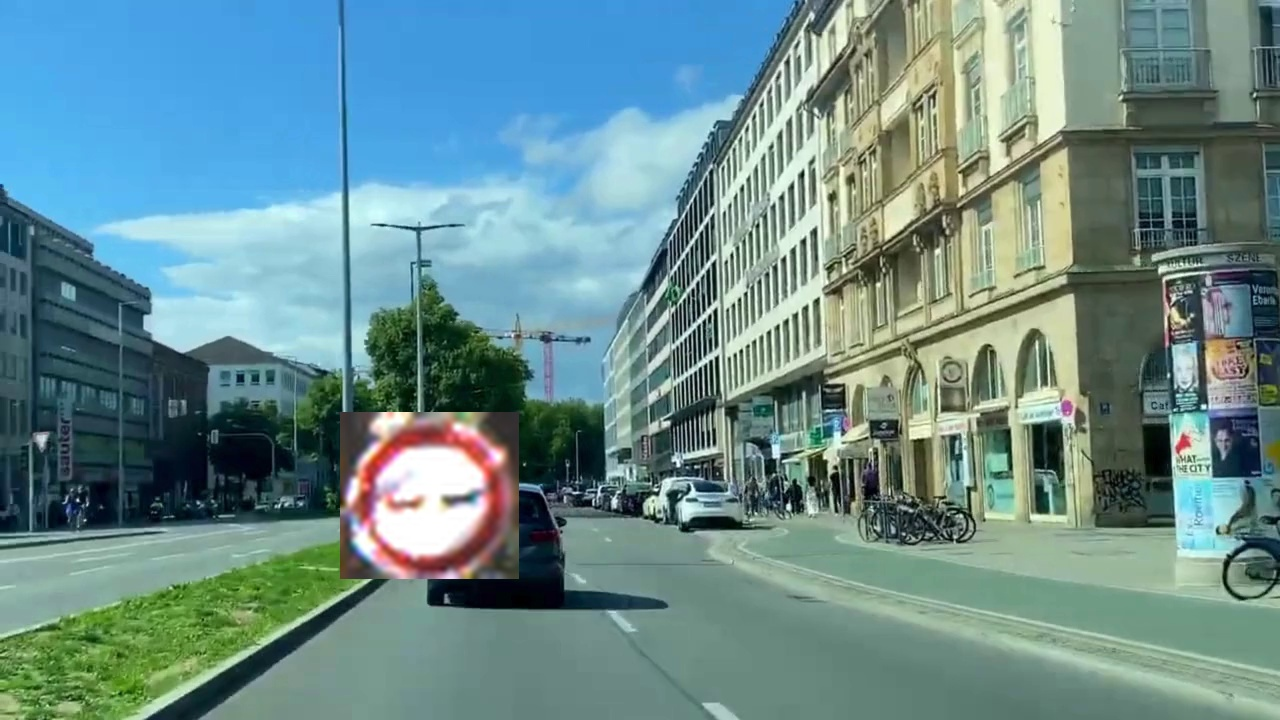No passing: (340, 412, 519, 579)
